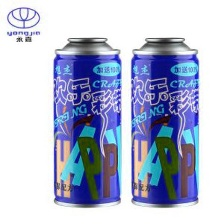aerosol_cans: (126, 29, 202, 210), (51, 34, 122, 210)
